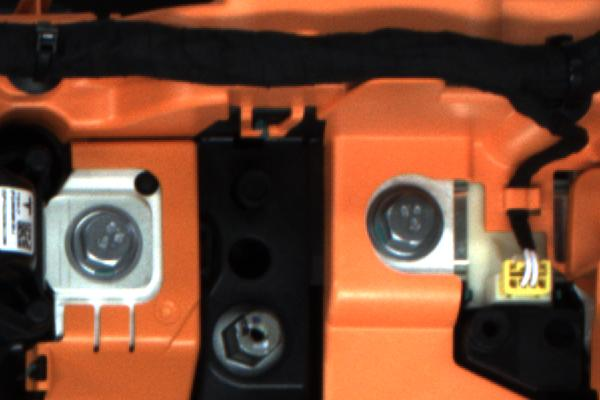nut_b: (359, 182, 441, 261), (67, 206, 148, 284)
